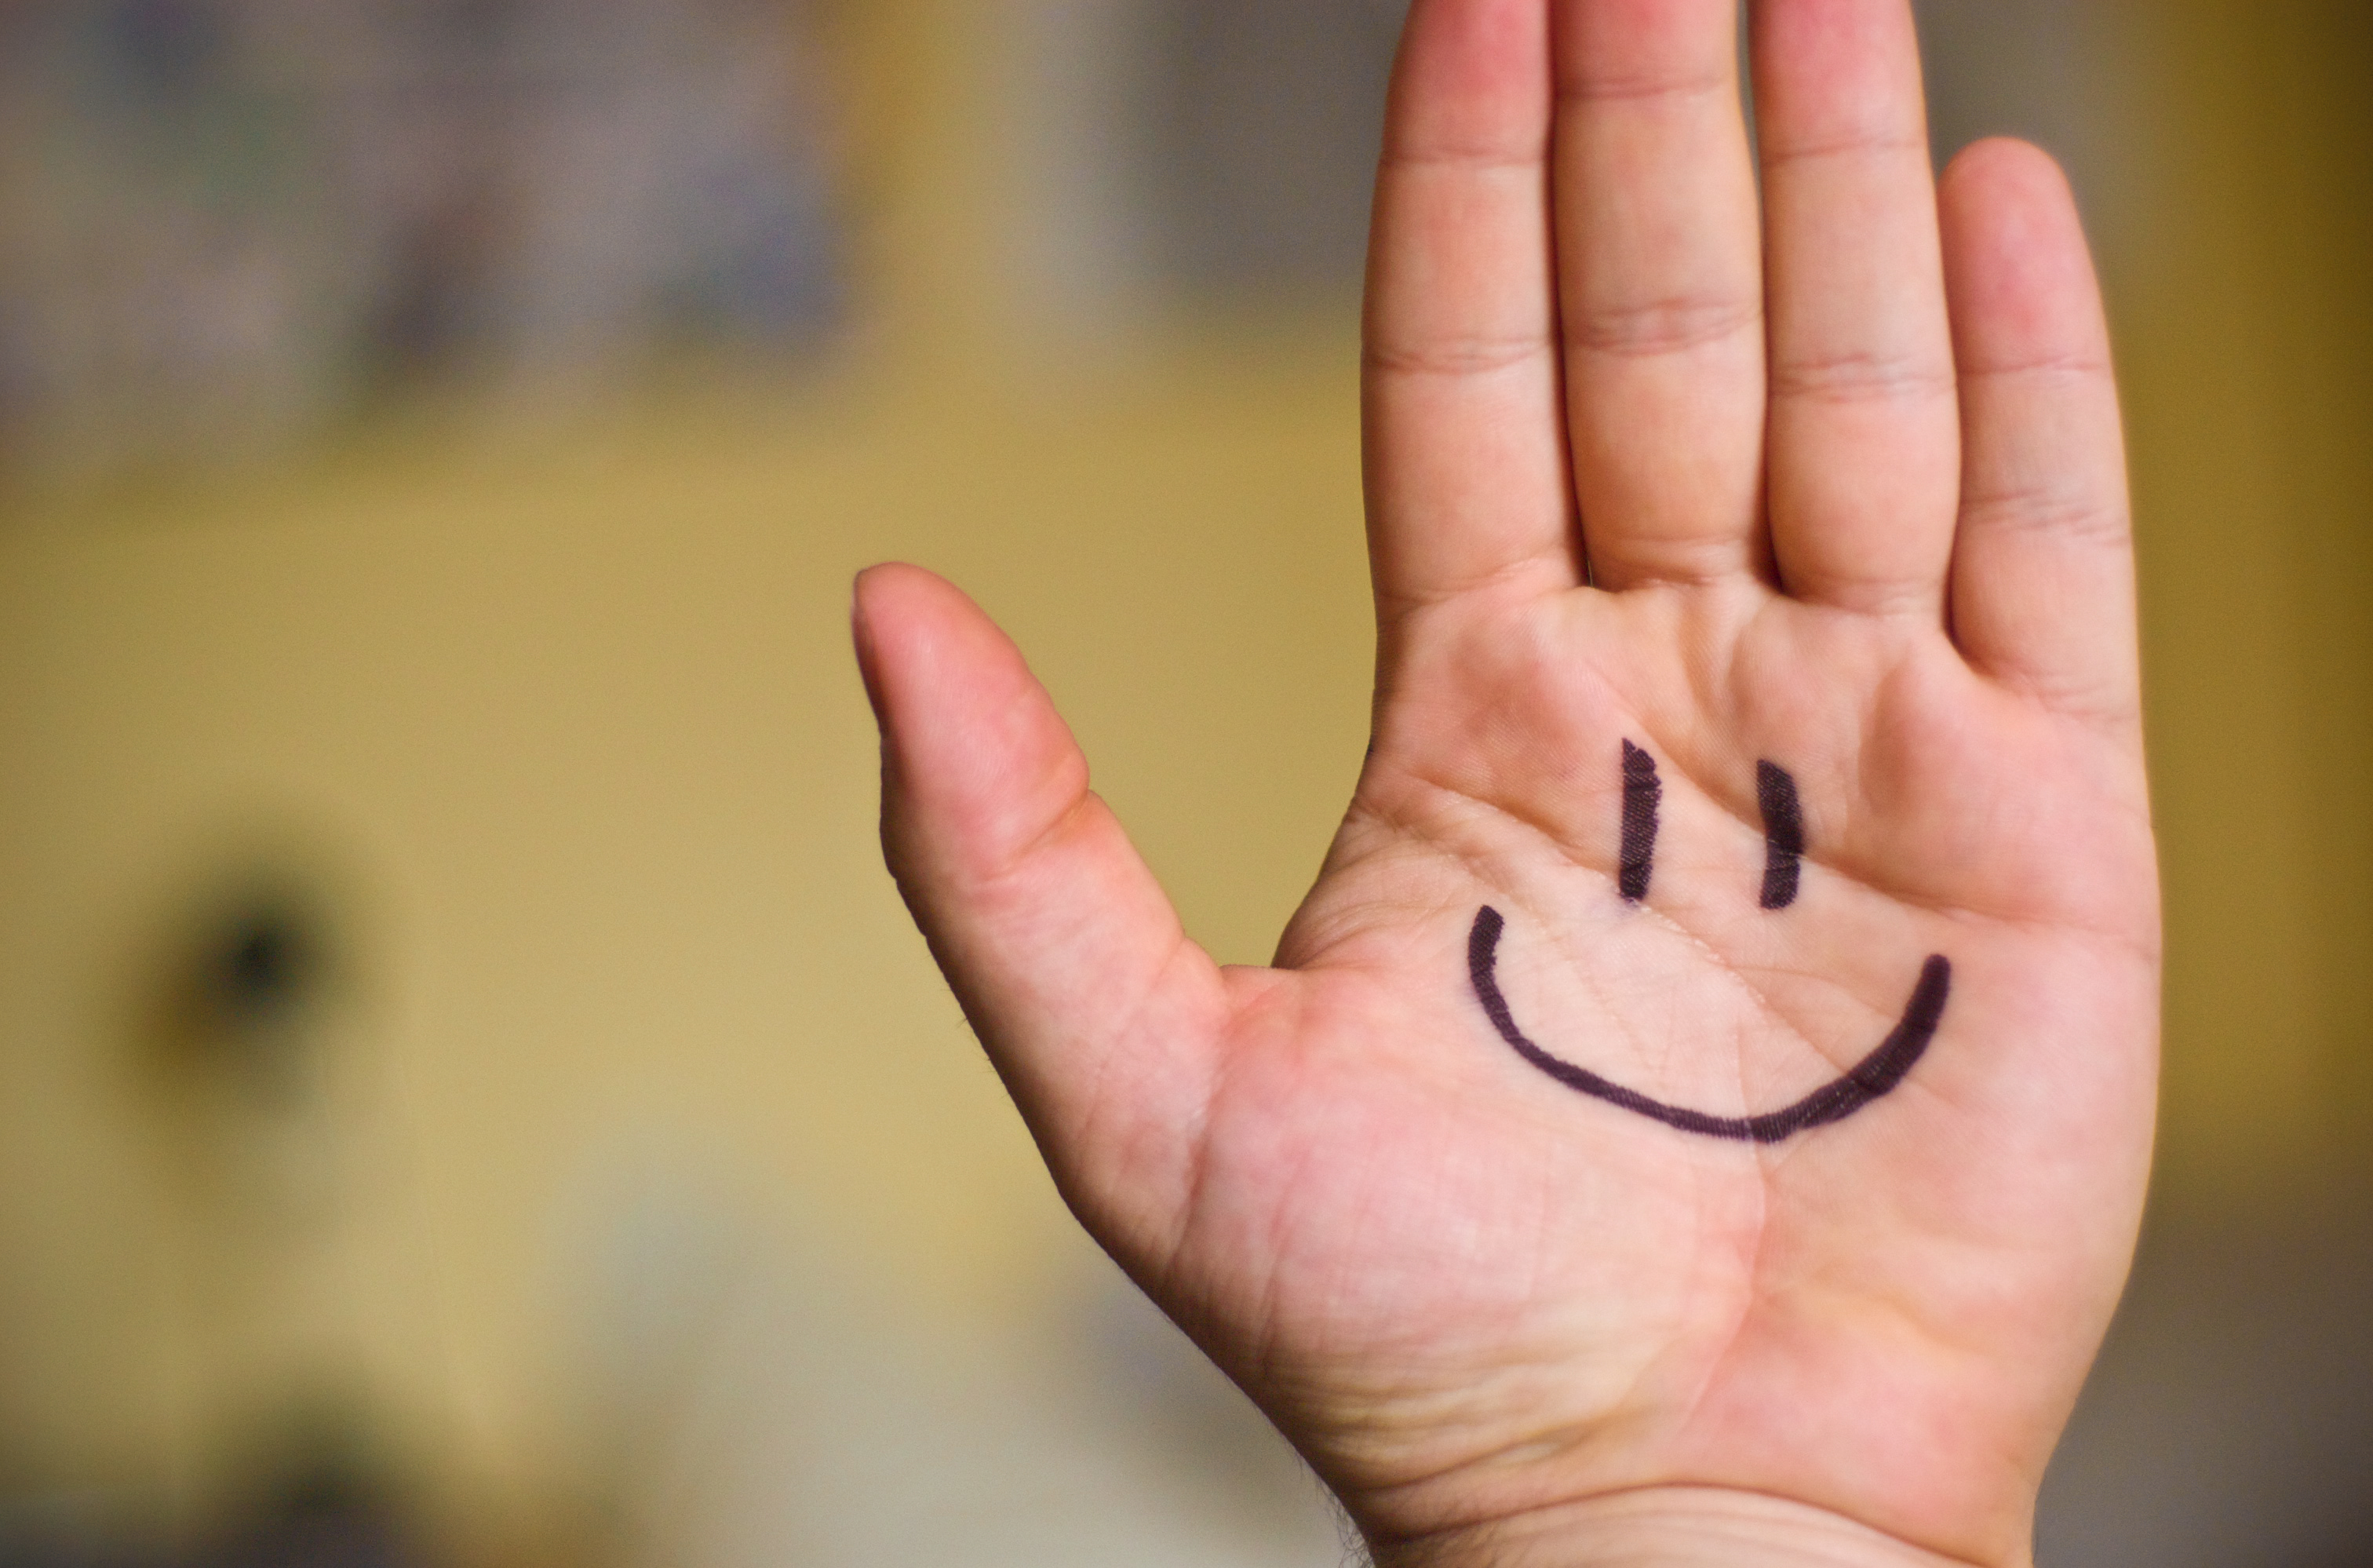hand: (800, 33, 2261, 1521)
